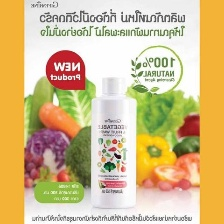insecticide: (88, 75, 140, 211)
